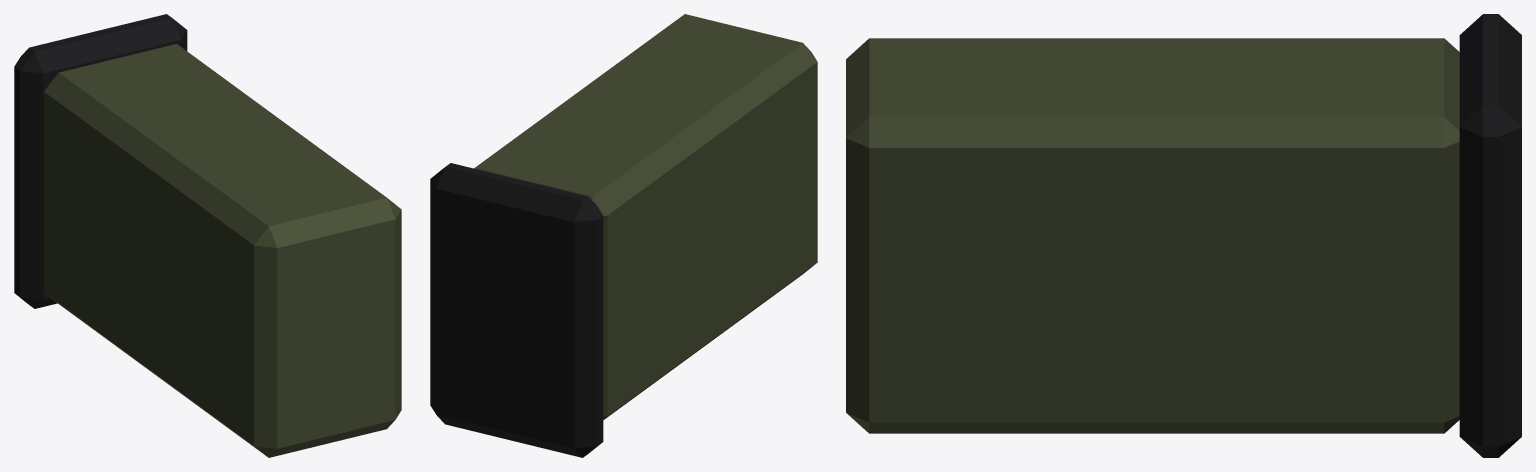
The model's file is mag_ext.glb.
3 renders of one model, left to right at view 1: azimuth 30°, elevation 25°; view 2: azimuth 150°, elevation 25°; view 3: azimuth 270°, elevation 25°, orthographic. The views are drawn at different scales.
Parts seen in each view (by area): view 1: mag_ext; view 2: mag_ext; view 3: mag_ext.
Boxes of the visible parts, x1,y1,x2,y2 form: mag_ext: [14, 14, 401, 457]; mag_ext: [430, 14, 817, 457]; mag_ext: [846, 14, 1521, 457].
Size of the model in its own units: 0.034 by 0.05 by 0.087.
